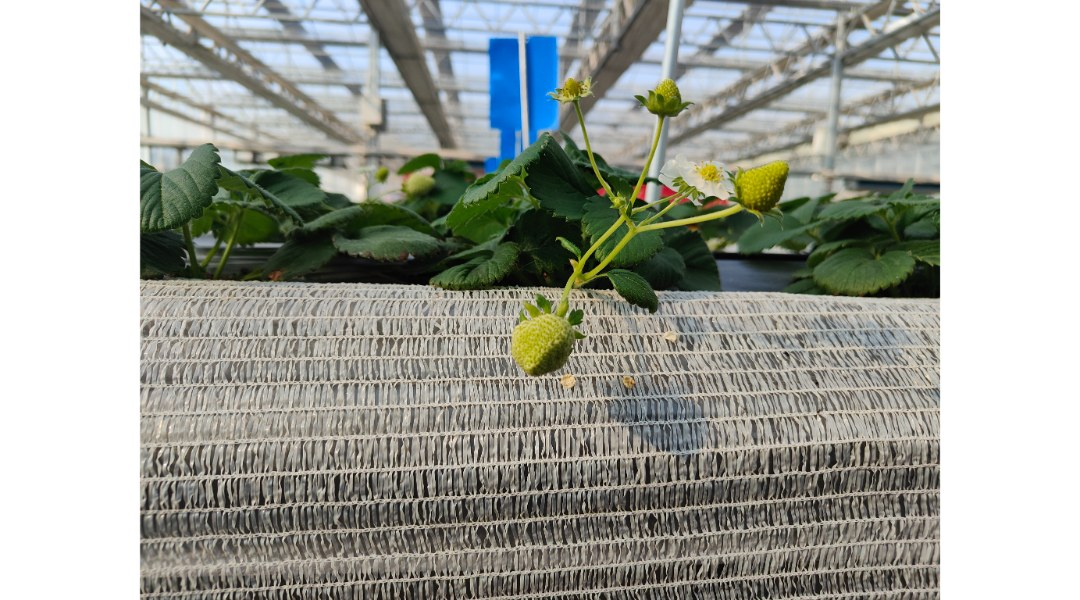berry: (505, 297, 582, 383), (637, 196, 734, 242), (571, 108, 617, 204), (633, 69, 697, 131), (731, 162, 798, 220), (543, 67, 600, 103), (642, 118, 665, 183)
flower: (675, 151, 738, 204)
strain: (566, 220, 620, 288), (588, 237, 627, 295)
